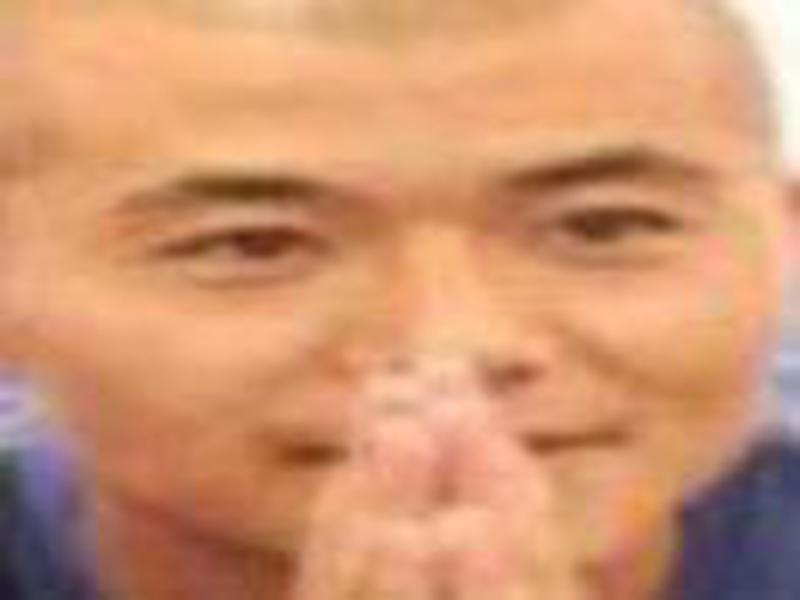without_mask: (17, 10, 782, 574)
